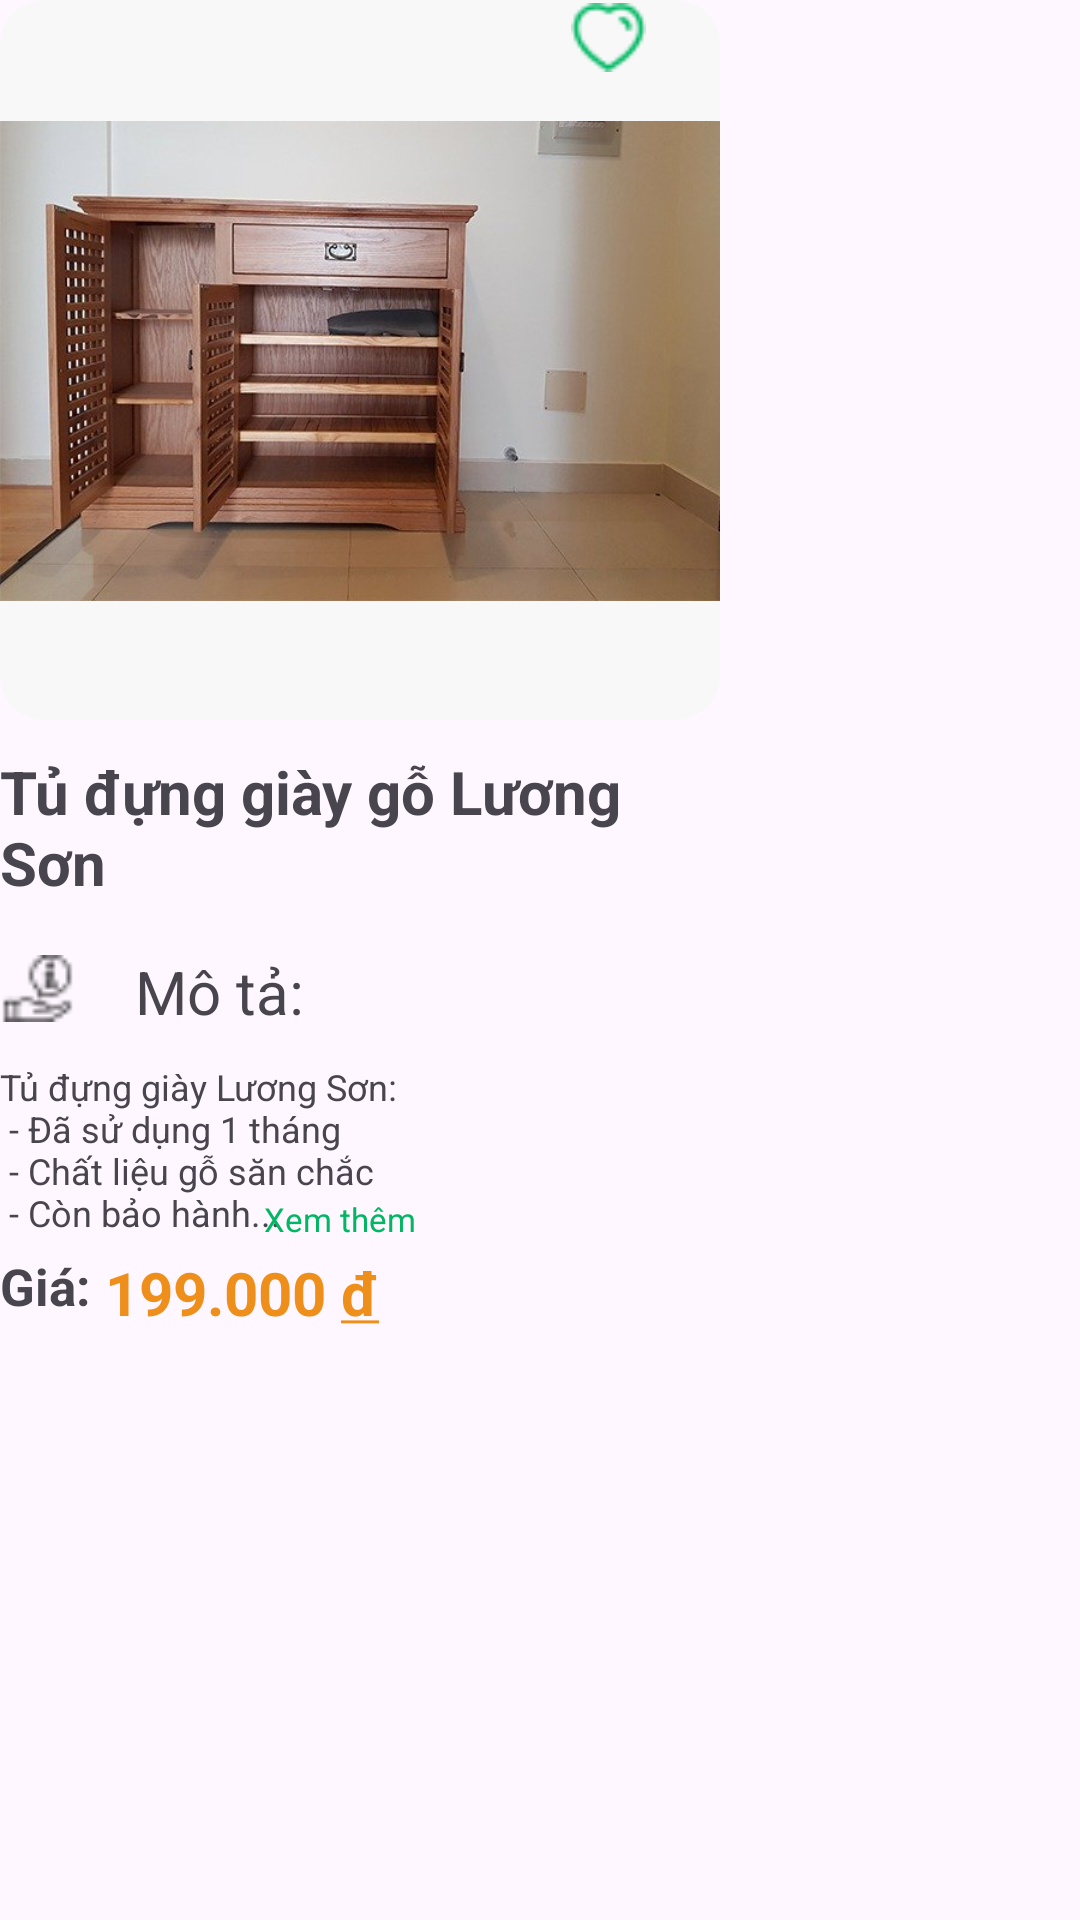

Where to tap for icons on this 1080px x 1920px app screen, as (x,y):
description: (37,988)
